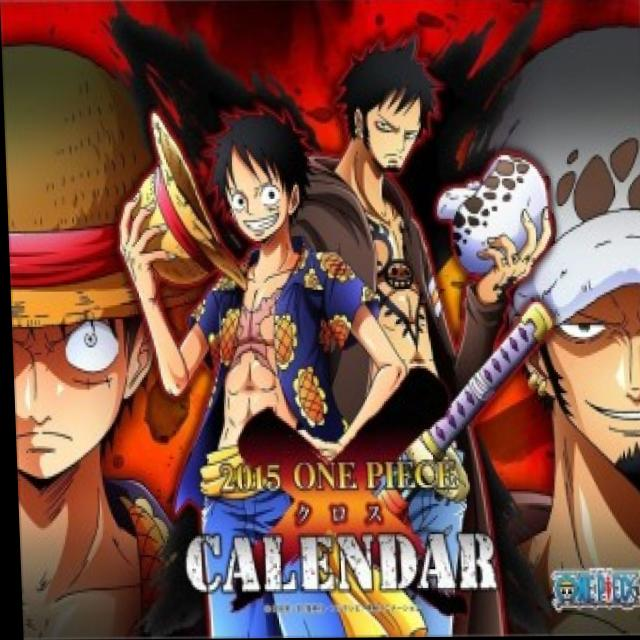Luffy: (1, 31, 201, 503), (195, 95, 328, 277)
